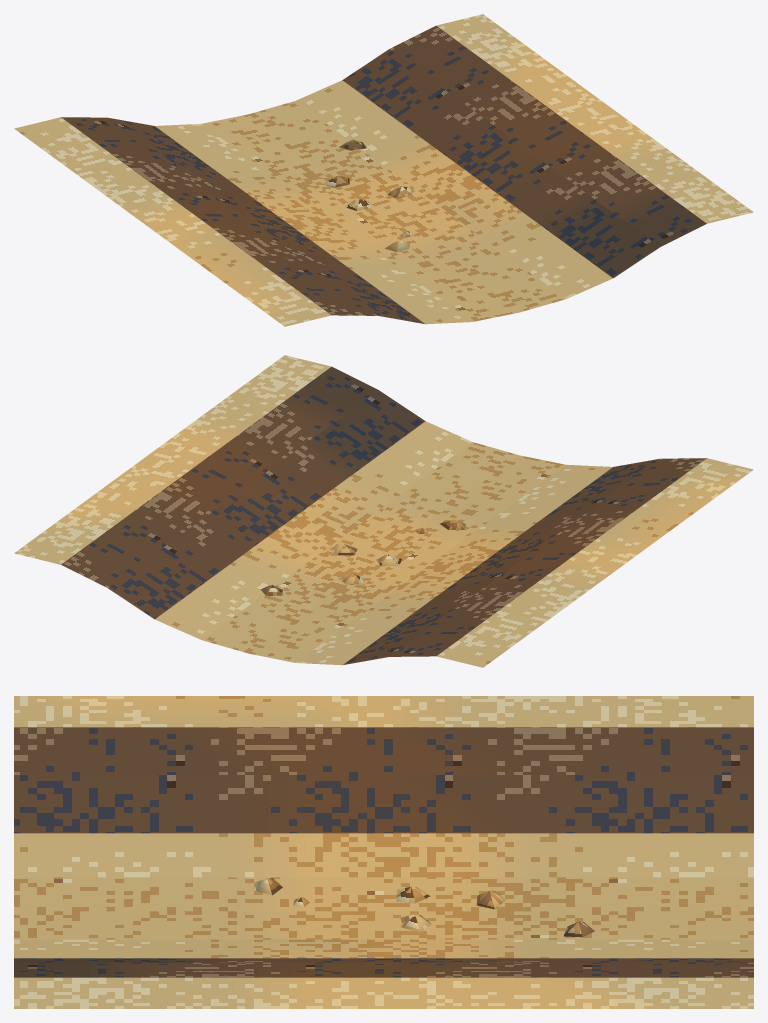
Rendered from wland.riverbed.glb.
The picture shows the model from 3 angles, top to bottom: view 1: azimuth 30°, elevation 25°; view 2: azimuth 150°, elevation 25°; view 3: azimuth 270°, elevation 25°; orthographic projection. The views are drawn at different scales.
Parts seen in each view (by area): view 1: kit_shell_ground, kit_stones; view 2: kit_shell_ground, kit_stones; view 3: kit_shell_ground, kit_stones.
Part boxes in pixels (<box>): kit_shell_ground: <box>14,14,753,326</box>; kit_stones: <box>321,139,413,251</box>; kit_shell_ground: <box>14,355,753,667</box>; kit_stones: <box>260,519,465,595</box>; kit_shell_ground: <box>14,696,753,1008</box>; kit_stones: <box>255,878,594,937</box>.
Bounding box in the file's own units: 8 × 0.7 × 8.
Materials: 4 (4 with a texture image).
